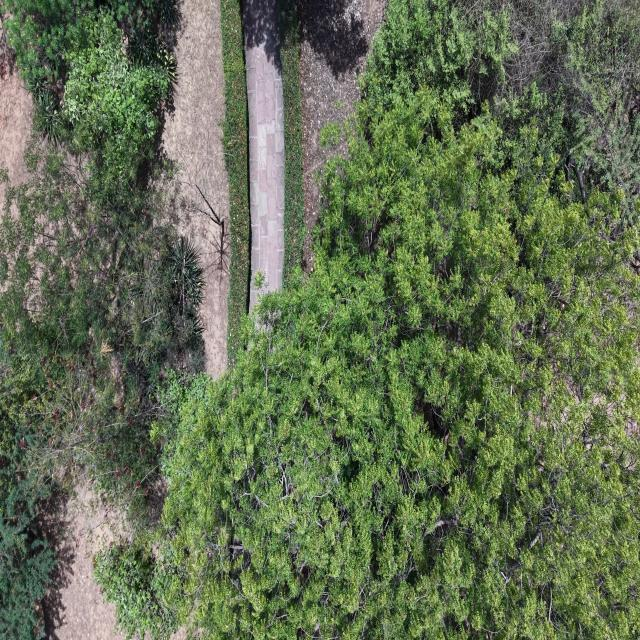DRY_AREA: (163, 0, 228, 377), (164, 0, 228, 377), (164, 0, 228, 376), (297, 0, 385, 271), (243, 0, 284, 310), (46, 486, 126, 639), (45, 488, 124, 639), (48, 486, 125, 639), (0, 19, 32, 184)
VEGETATION_TREE: (0, 0, 639, 639), (152, 0, 639, 639), (164, 91, 639, 638), (0, 0, 203, 639), (0, 146, 203, 528), (0, 145, 203, 512), (362, 0, 639, 216), (4, 0, 179, 193), (62, 12, 168, 191), (4, 0, 179, 103), (0, 358, 56, 638), (221, 0, 250, 366), (221, 0, 250, 365), (95, 544, 176, 639), (280, 0, 303, 286)
